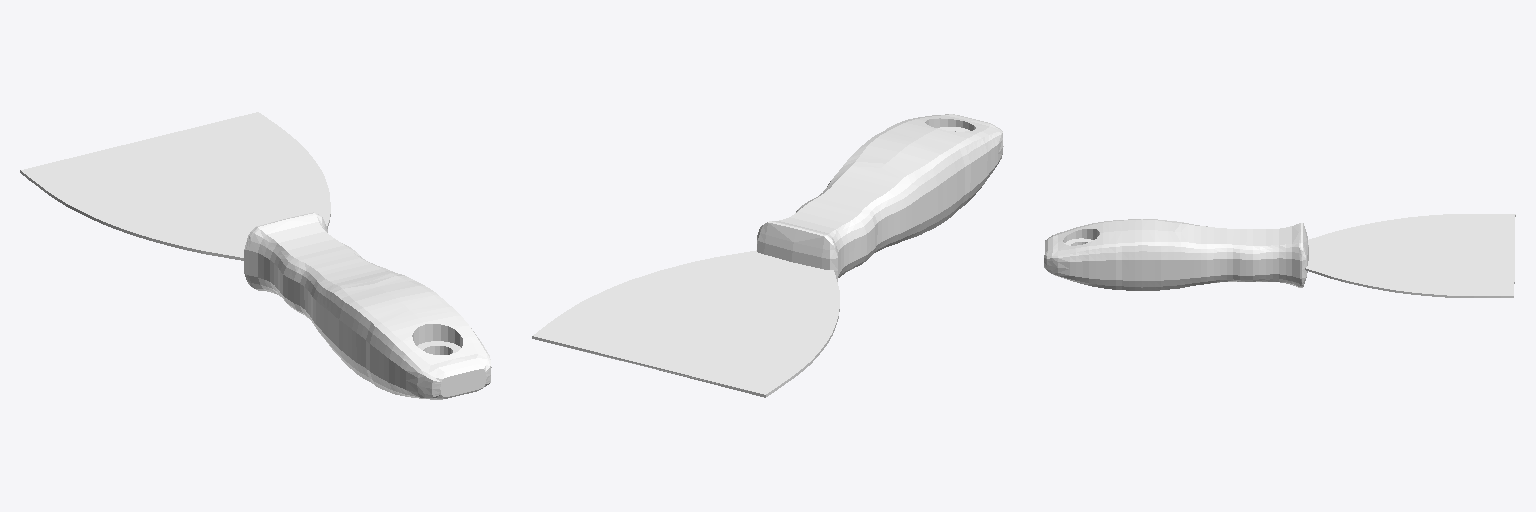
The robot description file, URDF, robot "plaster_spatula":
<?xml version="1.0" ?>
    <robot name="plaster_spatula">
    <link name="base">
        <inertial>
            <origin rpy="0 0 0" xyz="0 0 0"/>
            <mass value="1.0"/>
            <inertia ixx="1" ixy="0" ixz="0" iyy="1" iyz="0" izz="1"/>
        </inertial>
    <visual>
        <origin rpy="0 0 0" xyz="0 0 0"/>
        <geometry>
        <mesh filename="./meshes/plaster_spatula.obj" scale="1 1 1"/>
        </geometry>
        <material name="white">
        <color rgba="1 1 1 1"/>
        </material>
    </visual>
    <collision>
        <origin rpy="0 0 0" xyz="0 0 0"/>
        <geometry>
        <mesh filename="./meshes/plaster_spatula_vhacd.obj" scale="1 1 1"/>
        </geometry>
    </collision>
    </link>
    <link name="grasp">
        <inertial>
        <origin rpy="0 0 0" xyz="0 0 0"/>
        <mass value="0.0"/>
        <inertia ixx="1" ixy="0" ixz="0" iyy="1" iyz="0" izz="1"/>
        </inertial>
    </link>
    <joint name="base__grasp" type="fixed">
        <origin xyz="0.0 0.0 0.0" rpy="0.0 0.0 0.0"/>
        <parent link="base"/>
        <child link="grasp"/>
    </joint>
    </robot>

--- Render facts (derived) ---
3 views of the same robot in one strip: view 1: azimuth 30°, elevation 25°; view 2: azimuth 150°, elevation 25°; view 3: azimuth 270°, elevation 25° (orthographic).
Model plaster_spatula with 2 links and 1 joints (1 fixed), rooted at base, posed every joint at zero.
Visible links, largest first — view 1: base; view 2: base; view 3: base.
Boxes of the visible links, box(x1,y1,x2,y2) form: base: box(20, 112, 491, 399); base: box(532, 114, 1003, 397); base: box(1044, 214, 1515, 297).
Bounding box of the posed robot: 0.0946 × 0.225 × 0.0266 m (x, y, z).
Meshes: 1 distinct files referenced, 1 mesh visuals loaded (1 OBJ).